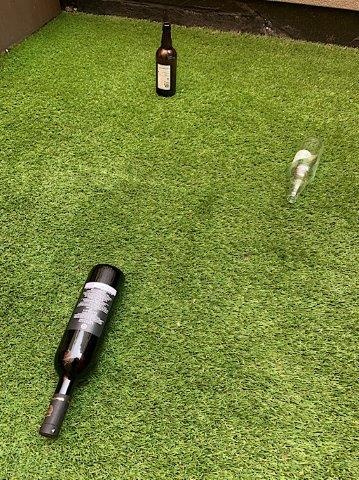botolkaca: (39, 266, 124, 436), (285, 141, 321, 202), (155, 23, 177, 96)
